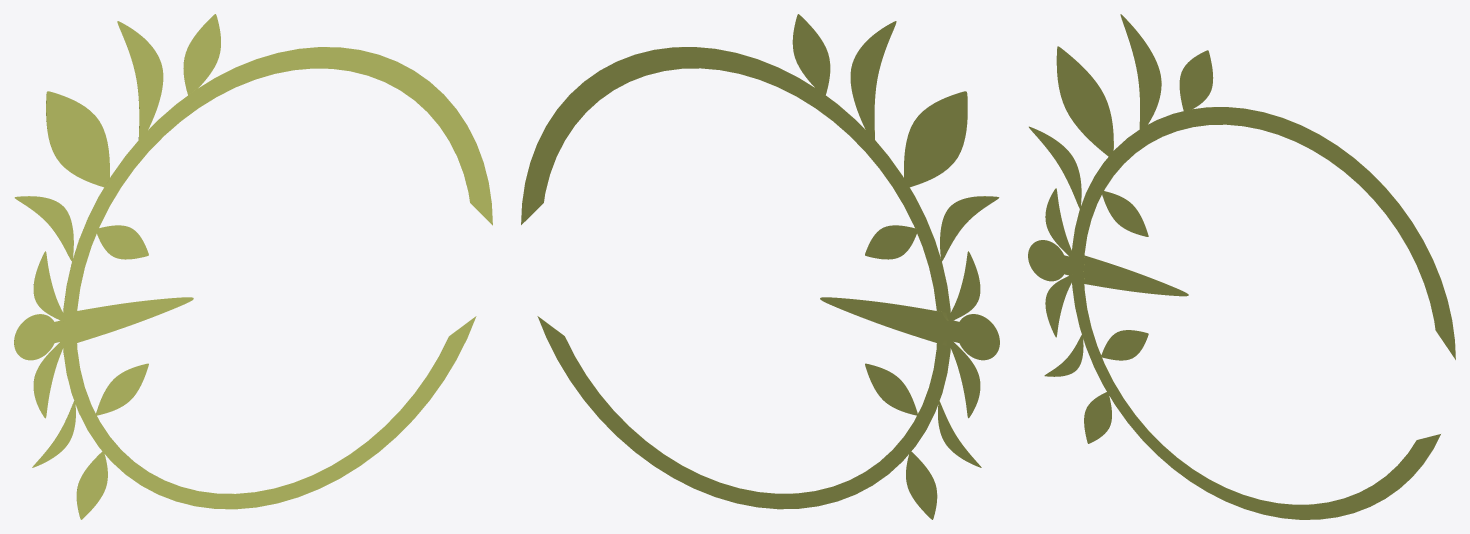
The model's file is Azusa.fbx.
3 views of the same model, side by side, from view 1: azimuth 30°, elevation 25°; view 2: azimuth 150°, elevation 25°; view 3: azimuth 330°, elevation 25° (orthographic). The views are drawn at different scales.
Visible parts, largest first — view 1: リング, 中央羽１, 葉型１, 葉型３, 三日月型１, 葉型２, 中央羽２, 三日月型２, 葉型４, 三日月型３; view 2: リング, 中央羽１, 葉型１, 葉型３, 三日月型１, 葉型２, 中央羽２, 三日月型２, 葉型４, 三日月型３; view 3: リング, 中央羽１, 葉型１, 葉型３, 三日月型１, 葉型２, 中央羽２, 三日月型２, 葉型４, 三日月型３.
Boxes of the visible parts, x1,y1,x2,y2 form: リング: [62, 47, 492, 509]; 中央羽１: [33, 251, 193, 418]; 葉型１: [46, 91, 109, 187]; 葉型３: [96, 225, 148, 415]; 三日月型１: [117, 21, 163, 139]; 葉型２: [183, 14, 220, 95]; 中央羽２: [14, 314, 70, 360]; 三日月型２: [14, 196, 73, 261]; 葉型４: [76, 451, 107, 519]; 三日月型３: [32, 401, 75, 467]; リング: [521, 47, 951, 509]; 中央羽１: [820, 251, 980, 418]; 葉型１: [904, 91, 967, 187]; 葉型３: [865, 225, 917, 415]; 三日月型１: [850, 21, 896, 145]; 葉型２: [792, 14, 830, 96]; 中央羽２: [948, 314, 999, 360]; 三日月型２: [940, 196, 999, 261]; 葉型４: [906, 451, 937, 519]; 三日月型３: [938, 400, 981, 467]; リング: [1071, 107, 1455, 519]; 中央羽１: [1045, 188, 1188, 337]; 葉型１: [1056, 46, 1113, 156]; 葉型３: [1101, 191, 1148, 360]; 三日月型１: [1120, 14, 1161, 128]; 葉型２: [1179, 50, 1213, 110]; 中央羽２: [1028, 240, 1078, 281]; 三日月型２: [1029, 126, 1081, 208]; 葉型４: [1084, 392, 1111, 443]; 三日月型３: [1044, 335, 1083, 376].
Size of the model in its own units: 445 by 463 by 0.2001.
